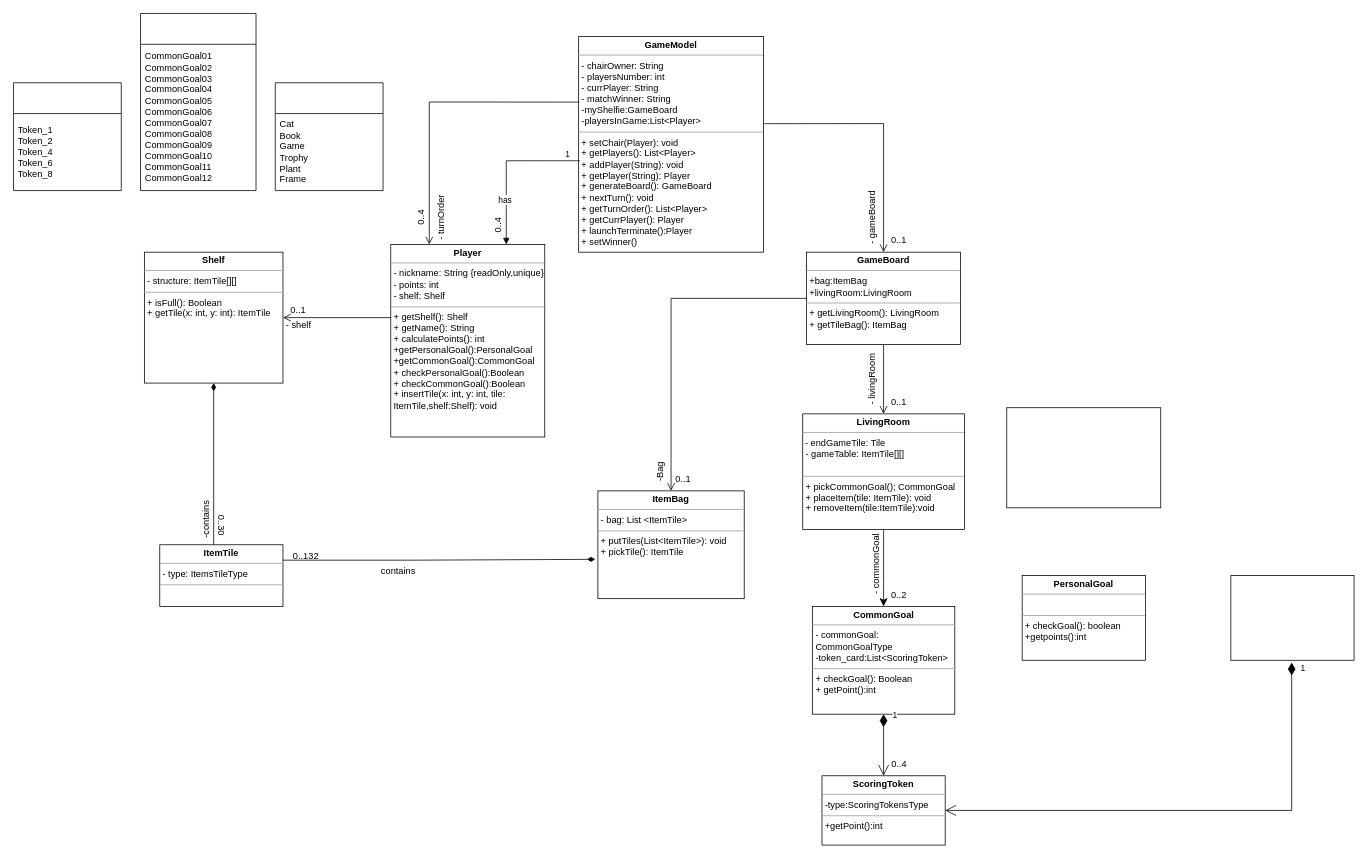
This 1368x859 diagram has some shape labels left out. Here are the shapes that lost their labels. From the top down, the box of each, then its label:
(140, 13, 256, 191): <<enumeration>> CommonGoalType
(13, 82, 121, 191): <<enumeration>> ScoringTokensType
(275, 82, 383, 191): <<enumeration>> ItemTileType
(1006, 407, 1161, 508): {abstract } Card + checkGoal():abstract + getPoint():abstract
(1230, 575, 1354, 660): EndGameToken endgame:ScoringTypeToken +checkGoal():Boolean +getPoint():int
